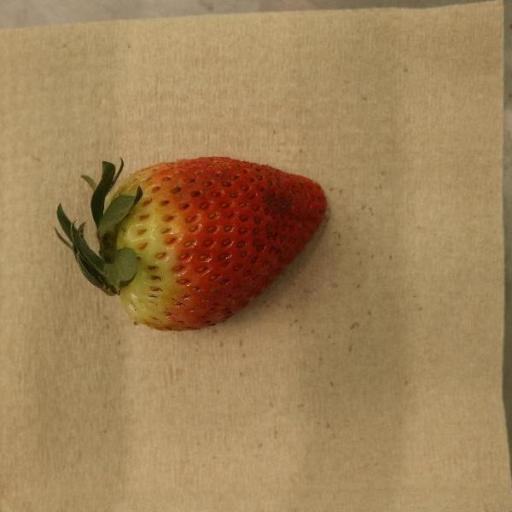Strawberry: (57, 157, 328, 332)
